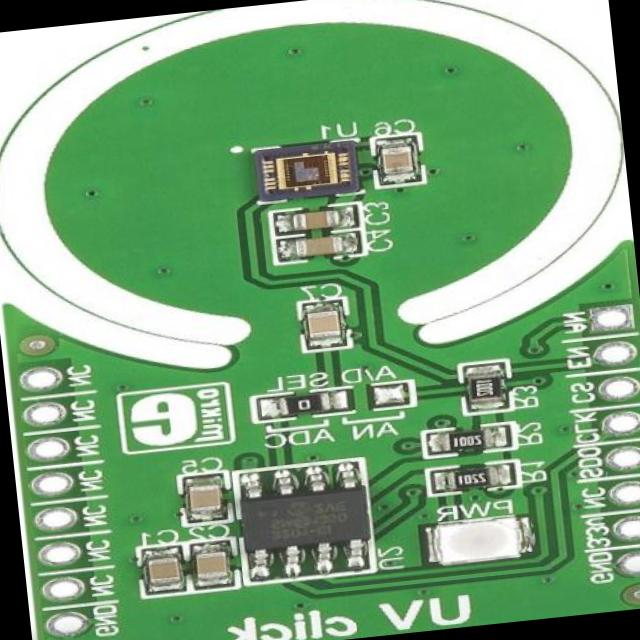IC: (233, 469, 373, 576), (249, 136, 364, 205)
LED: (428, 514, 524, 568)
capacitor: (300, 304, 346, 348), (276, 209, 348, 236), (380, 138, 422, 182), (278, 234, 353, 258), (190, 543, 232, 585), (146, 549, 187, 591), (188, 478, 222, 518)
resistor: (258, 390, 338, 422), (466, 368, 504, 409), (442, 465, 496, 493), (441, 430, 498, 452)
